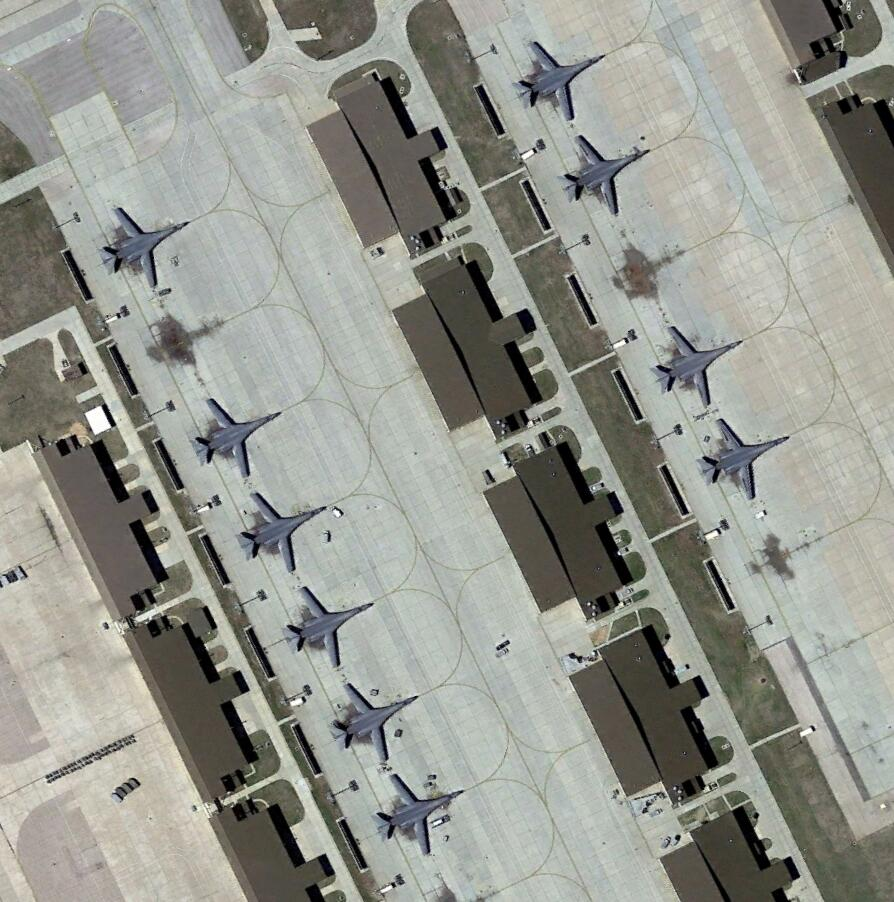A10: (94, 205, 196, 294), (186, 391, 287, 477), (649, 324, 752, 408), (695, 419, 796, 504), (512, 38, 610, 124), (327, 681, 426, 764), (235, 489, 334, 571), (285, 585, 380, 669), (559, 135, 655, 218), (376, 773, 467, 855)
